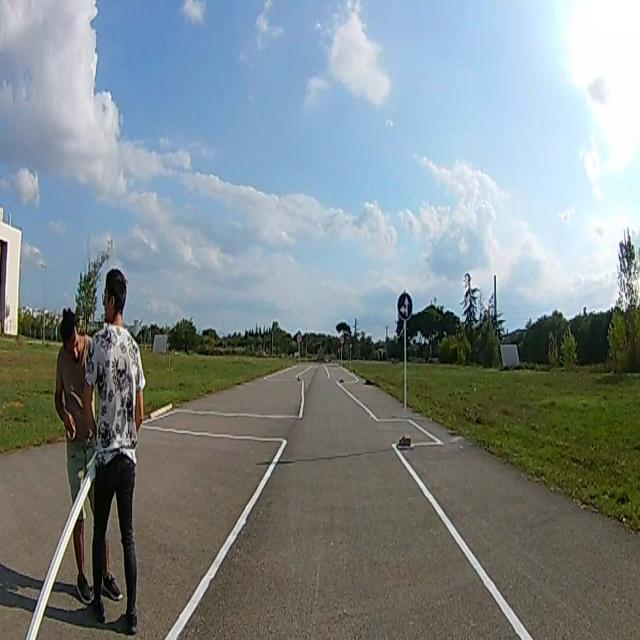ilerisol: (397, 290, 412, 322)
